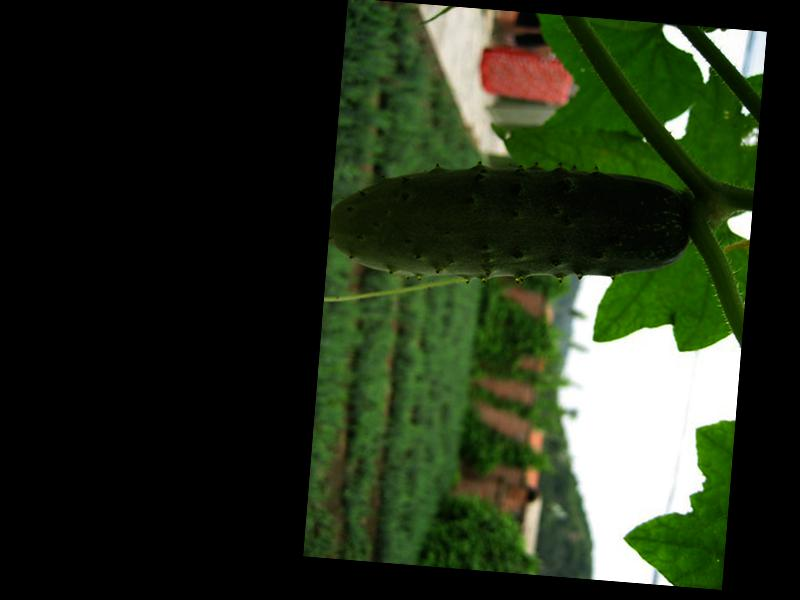Cucumber: (327, 151, 693, 295)
